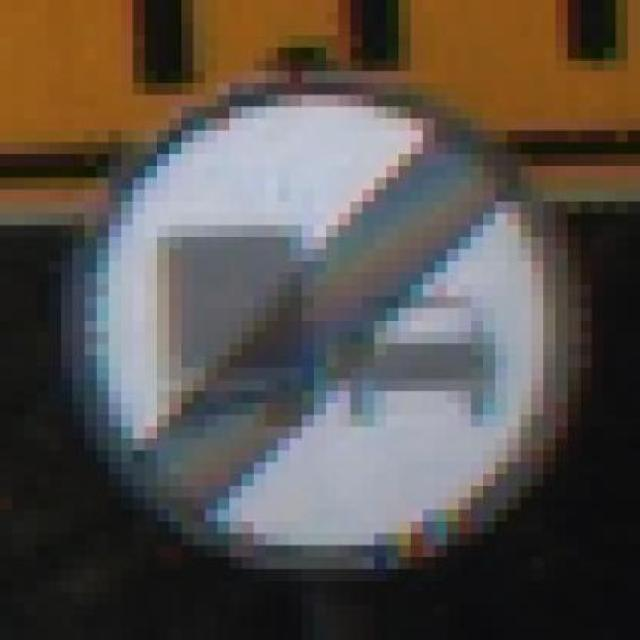Overtaking by trucks is prohibited: (48, 59, 604, 593)
